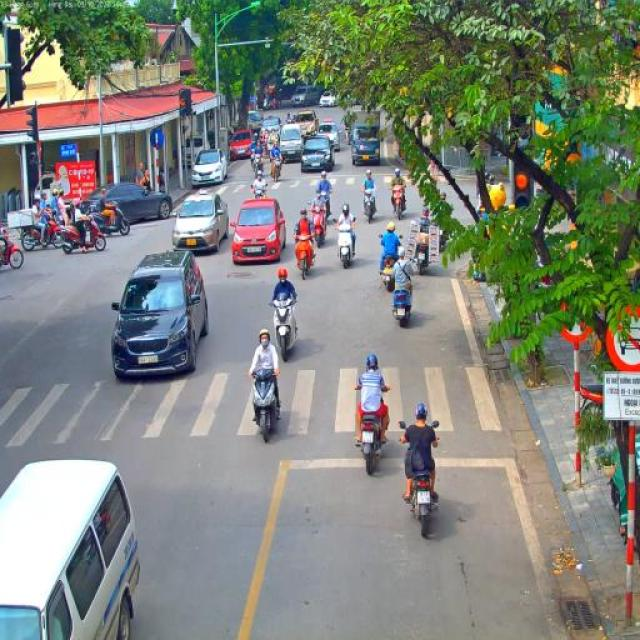car: (0, 457, 141, 640), (110, 249, 210, 382), (76, 181, 174, 223), (171, 188, 230, 254), (229, 197, 287, 264), (192, 148, 228, 186), (300, 135, 335, 174), (278, 122, 304, 162), (227, 129, 253, 161), (315, 118, 340, 151), (296, 109, 320, 139), (259, 116, 283, 145), (291, 84, 318, 108), (246, 110, 263, 139), (319, 91, 336, 108)
motorcycle: (398, 420, 442, 540), (352, 386, 392, 476), (247, 364, 282, 444), (268, 293, 300, 362), (62, 213, 108, 254), (20, 210, 64, 251), (90, 201, 132, 237), (378, 233, 403, 293), (391, 272, 414, 328), (406, 232, 433, 276), (293, 232, 316, 280), (336, 217, 356, 269), (307, 201, 328, 249), (0, 231, 24, 270), (574, 382, 604, 412), (389, 184, 407, 220), (363, 186, 378, 223), (315, 190, 333, 220), (42, 205, 58, 229), (250, 152, 264, 178), (270, 156, 282, 183), (251, 184, 268, 200), (248, 148, 257, 172), (342, 125, 351, 143), (263, 143, 271, 159), (270, 140, 279, 150)
truck: (350, 122, 382, 166)
